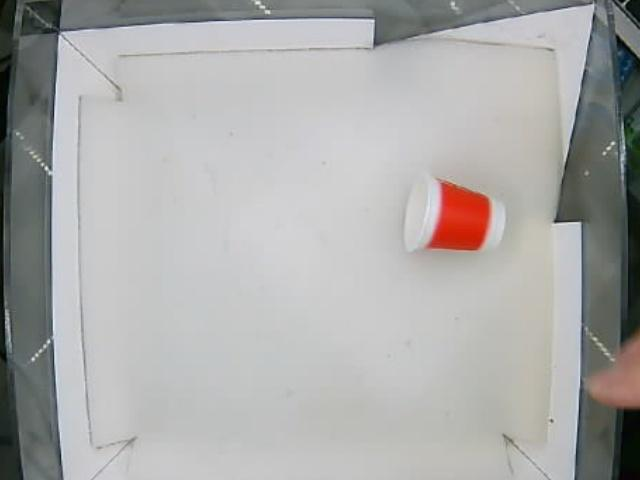Cup: (405, 174, 504, 256)
